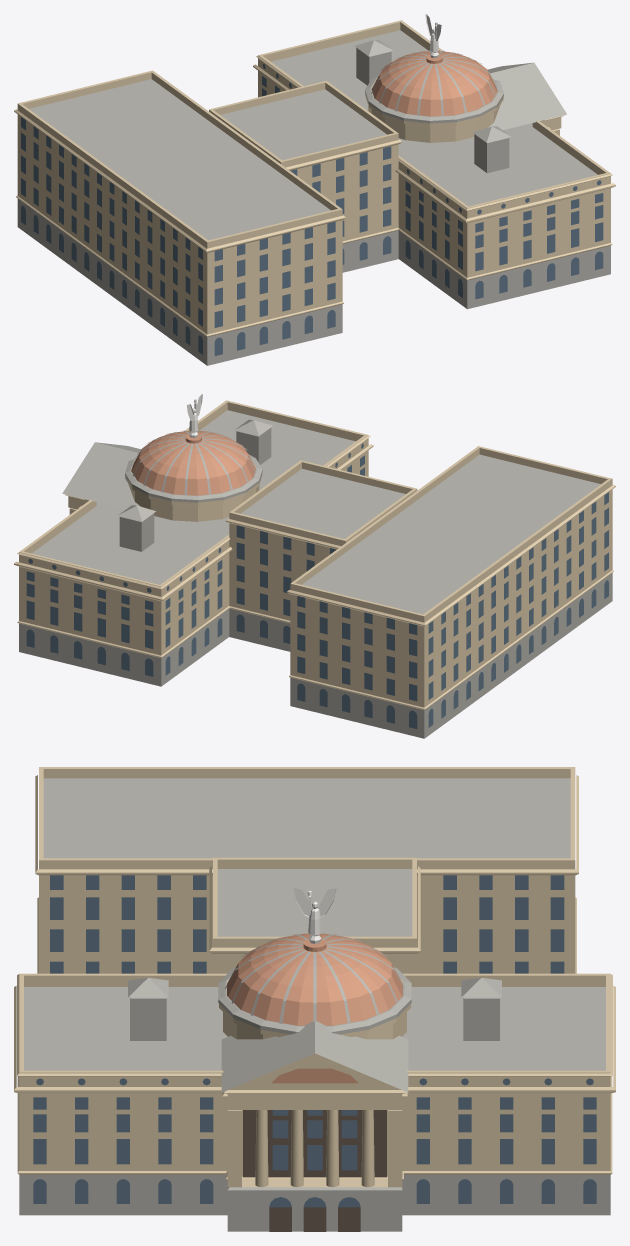
Rendered from phx-arizona-state-capitol.glb.
The picture shows the model from 3 angles, top to bottom: view 1: azimuth 30°, elevation 25°; view 2: azimuth 150°, elevation 25°; view 3: azimuth 270°, elevation 25°; orthographic projection. The views are drawn at different scales.
Parts seen in each view (by area): view 1: Arizona State Capitol; view 2: Arizona State Capitol; view 3: Arizona State Capitol.
Boxes of the visible parts, box(x1,y1,x2,y2) form: Arizona State Capitol: box(14, 14, 615, 365); Arizona State Capitol: box(14, 394, 615, 738); Arizona State Capitol: box(14, 767, 615, 1231).
Size of the model in its own units: 66.9 by 29.3 by 57.8.
